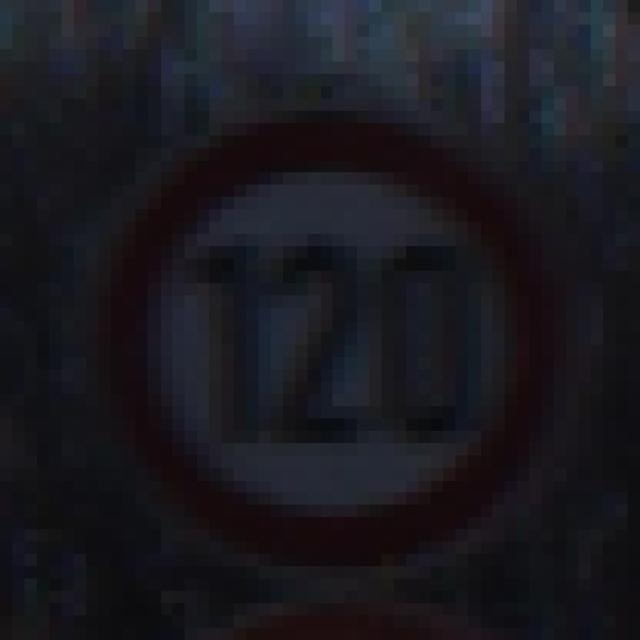forb_speed_over_120: (123, 119, 555, 567)
